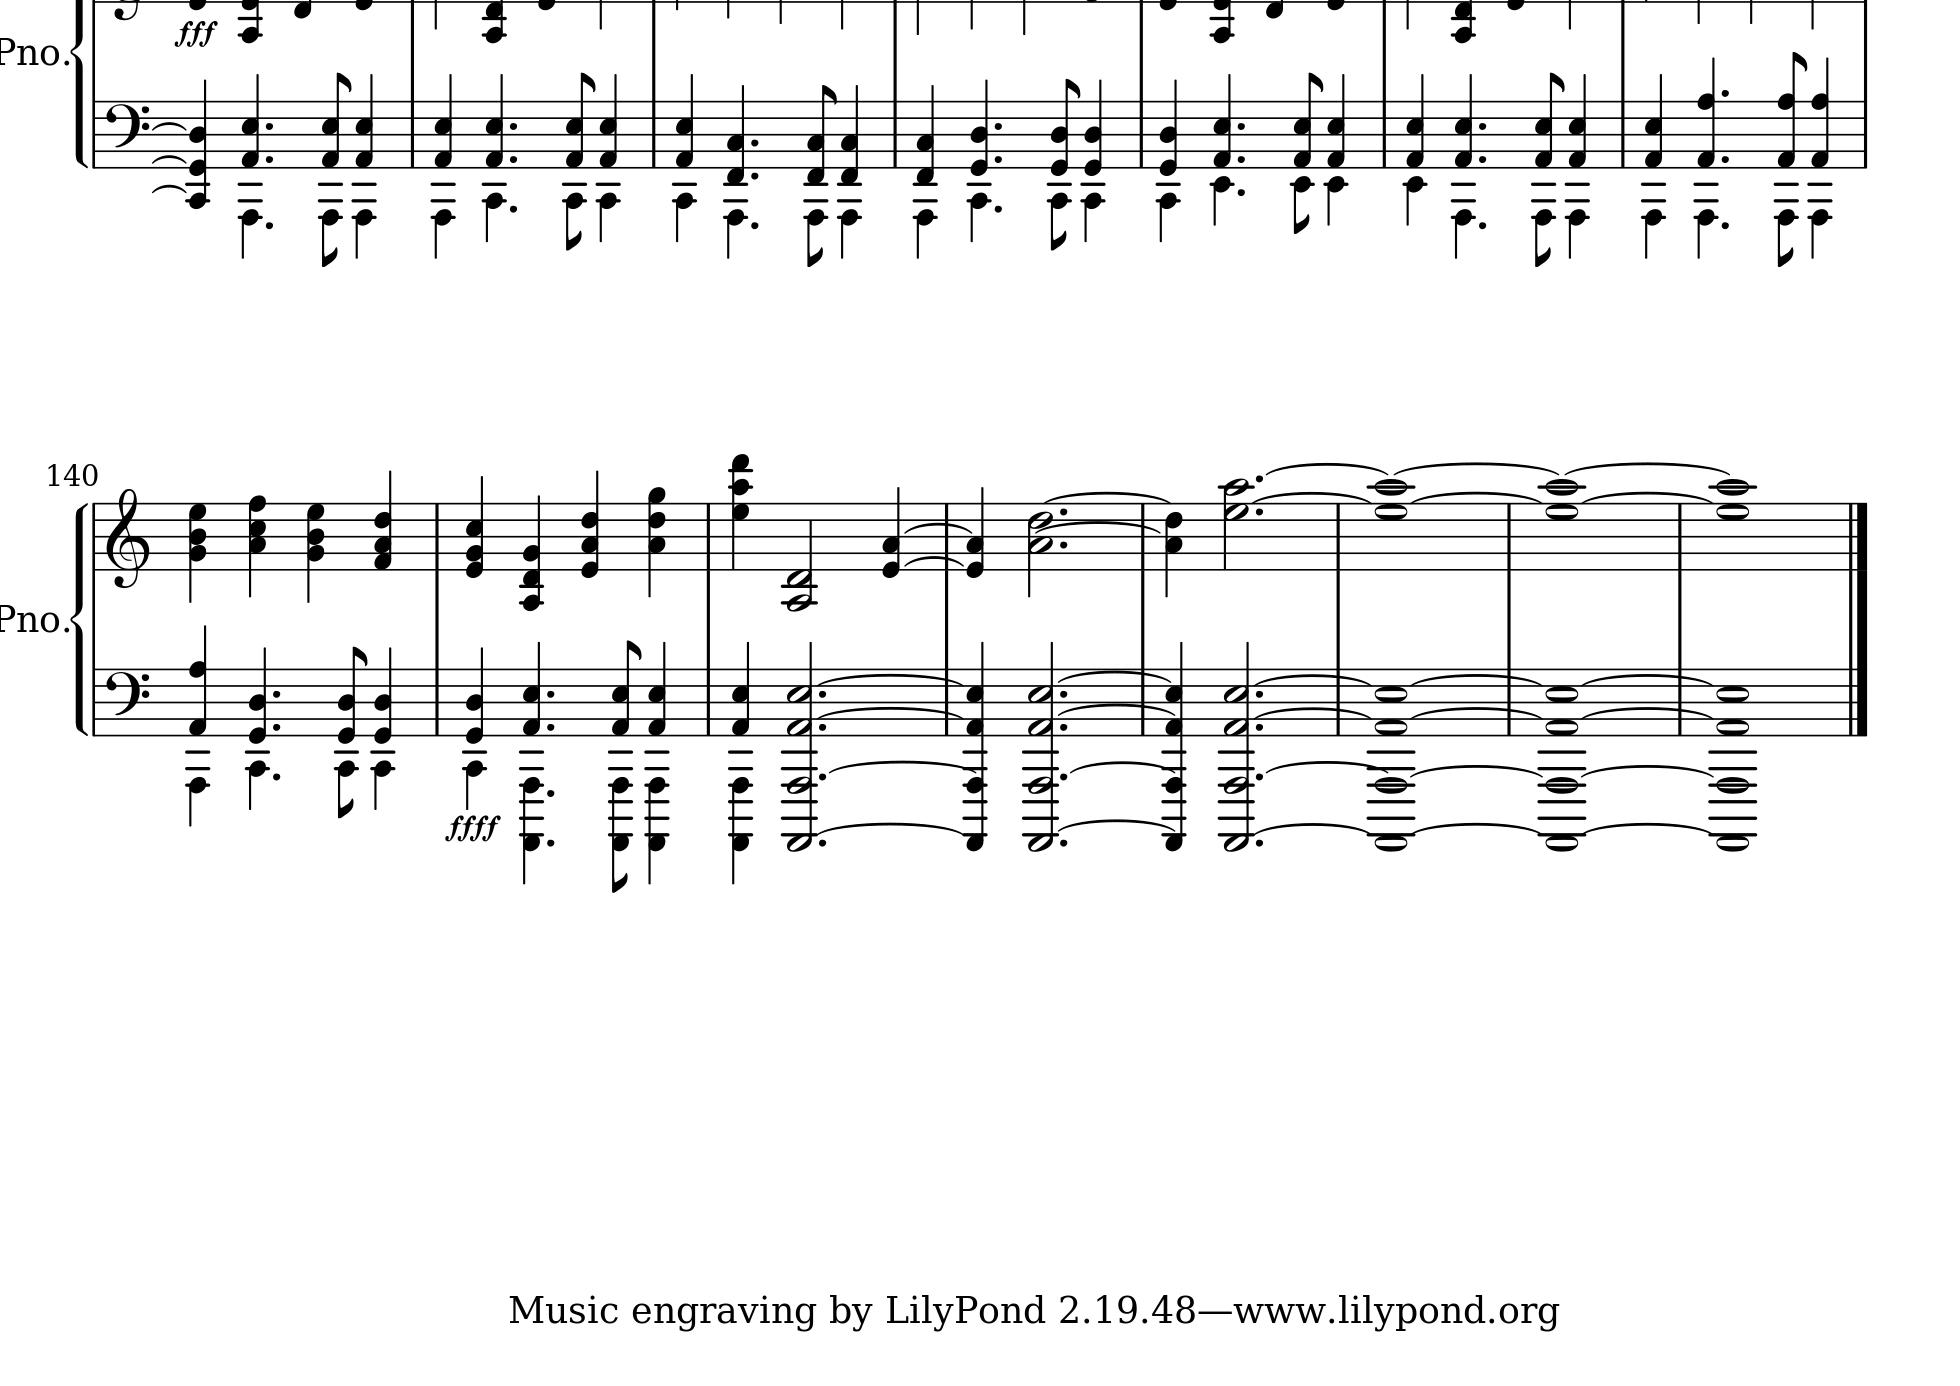0: (81, 460, 97, 487)
1: (46, 460, 61, 489)
1_4th: (1714, 669, 1755, 850), (1542, 670, 1581, 855), (1375, 669, 1410, 853)
1_7_10: (1537, 478, 1590, 573), (1710, 477, 1761, 573), (1366, 477, 1416, 574)
2_-4_-1: (780, 502, 819, 613)
2_3_6: (1026, 501, 1054, 601)
2_4th: (1215, 639, 1254, 853), (780, 637, 814, 853), (1021, 637, 1056, 853)
2_7_10: (1218, 477, 1257, 571)
4: (63, 460, 81, 489)
4_0_3: (880, 486, 901, 580), (966, 487, 987, 580)
4_3_6: (1164, 502, 1185, 598)
4_4th: (1161, 637, 1186, 850), (963, 637, 987, 850)
4_th: (517, 492, 546, 612), (187, 79, 213, 208), (727, 450, 754, 571), (577, 466, 603, 583), (370, 468, 394, 574), (244, 493, 268, 600), (463, 475, 487, 580), (301, 498, 325, 603), (184, 499, 208, 601), (645, 484, 666, 592)
Brace: (70, 501, 88, 733)
Fclef: (103, 666, 153, 738), (103, 97, 151, 169)
Final_barline: (1843, 501, 1872, 570), (1843, 667, 1869, 735)
Gclef: (105, 484, 150, 589)
Pno: (1, 600, 61, 636), (1, 34, 61, 69)
Single_barline: (1500, 667, 1521, 736), (1330, 667, 1350, 733), (1137, 501, 1155, 570), (1672, 667, 1690, 736), (937, 667, 955, 736), (1137, 667, 1155, 733), (700, 502, 717, 570), (429, 667, 445, 735), (403, 100, 420, 166), (886, 100, 903, 166), (87, 502, 103, 568), (429, 504, 445, 570), (1857, 100, 1872, 168), (700, 667, 715, 735), (646, 100, 661, 166), (1377, 100, 1392, 166), (1615, 100, 1630, 166), (1134, 100, 1149, 166), (940, 502, 957, 562), (1503, 502, 1518, 568), (1674, 502, 1689, 568), (1332, 504, 1347, 568), (88, 100, 102, 168), (88, 669, 102, 735)
Slur: (1395, 462, 1567, 477), (1560, 460, 1734, 474), (820, 820, 961, 835), (1410, 763, 1545, 778), (1047, 489, 1173, 504), (1044, 517, 1167, 532), (1254, 672, 1377, 687), (1264, 460, 1386, 475), (1581, 765, 1714, 778), (1254, 706, 1374, 721), (1056, 817, 1176, 832), (1410, 703, 1542, 717), (823, 760, 970, 772), (817, 673, 961, 685), (817, 705, 961, 717), (1582, 673, 1708, 687), (1251, 490, 1374, 504), (1056, 669, 1176, 682), (1407, 673, 1542, 685), (1252, 820, 1371, 834), (1582, 706, 1713, 718), (1584, 490, 1711, 502), (1414, 490, 1540, 502), (1414, 820, 1539, 832), (1585, 820, 1710, 832), (1056, 703, 1174, 715), (1263, 760, 1378, 772), (1068, 760, 1173, 772), (904, 555, 961, 568), (904, 520, 967, 532), (150, 120, 187, 132), (150, 153, 187, 165), (150, 183, 187, 195)
dot: (1477, 117, 1489, 133), (262, 118, 276, 132), (748, 168, 762, 181), (1057, 720, 1071, 733), (508, 118, 520, 133), (993, 118, 1005, 133), (993, 151, 1005, 166), (1056, 505, 1071, 517), (544, 685, 556, 700), (271, 685, 283, 700), (1719, 85, 1731, 99), (1236, 118, 1248, 132), (748, 135, 760, 148), (1477, 151, 1489, 165), (508, 151, 520, 165), (1236, 151, 1248, 165), (1236, 184, 1248, 198), (508, 201, 520, 214), (993, 201, 1005, 214), (1057, 538, 1071, 550), (1057, 685, 1069, 699), (271, 720, 283, 733), (544, 720, 556, 733), (1059, 769, 1071, 783), (1254, 769, 1266, 783), (544, 786, 556, 799), (1057, 835, 1071, 847), (1719, 217, 1731, 229), (748, 217, 760, 229), (1252, 472, 1264, 484), (1254, 505, 1266, 517), (1254, 687, 1266, 699), (1254, 720, 1266, 732), (271, 769, 283, 781), (544, 835, 556, 847), (816, 835, 828, 847), (1254, 835, 1266, 847), (1720, 151, 1731, 165), (264, 151, 274, 165), (264, 217, 274, 231), (817, 720, 828, 733), (817, 769, 828, 783), (1477, 217, 1488, 229), (816, 687, 826, 699)
fff: (172, 16, 219, 49)
ffff: (444, 811, 502, 844)
